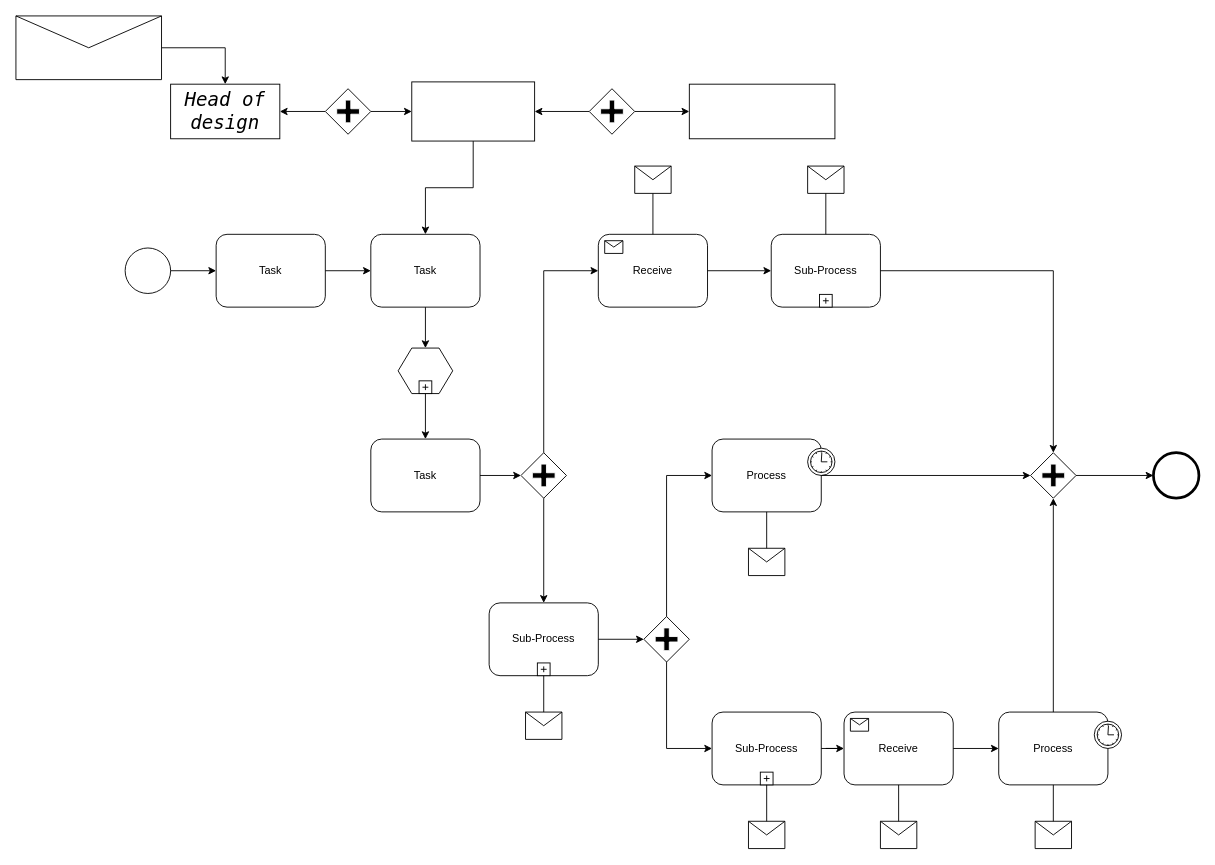
Some shapes in this 1215 by 865 pixel diagram are drawn without their labels. Each missing label, with the centre of its shape:
Founder & Creative Director: the point at 88,47
Senior Designers / Designers: the point at 473,111
Technical Design / Pattern Room: the point at 761,111
